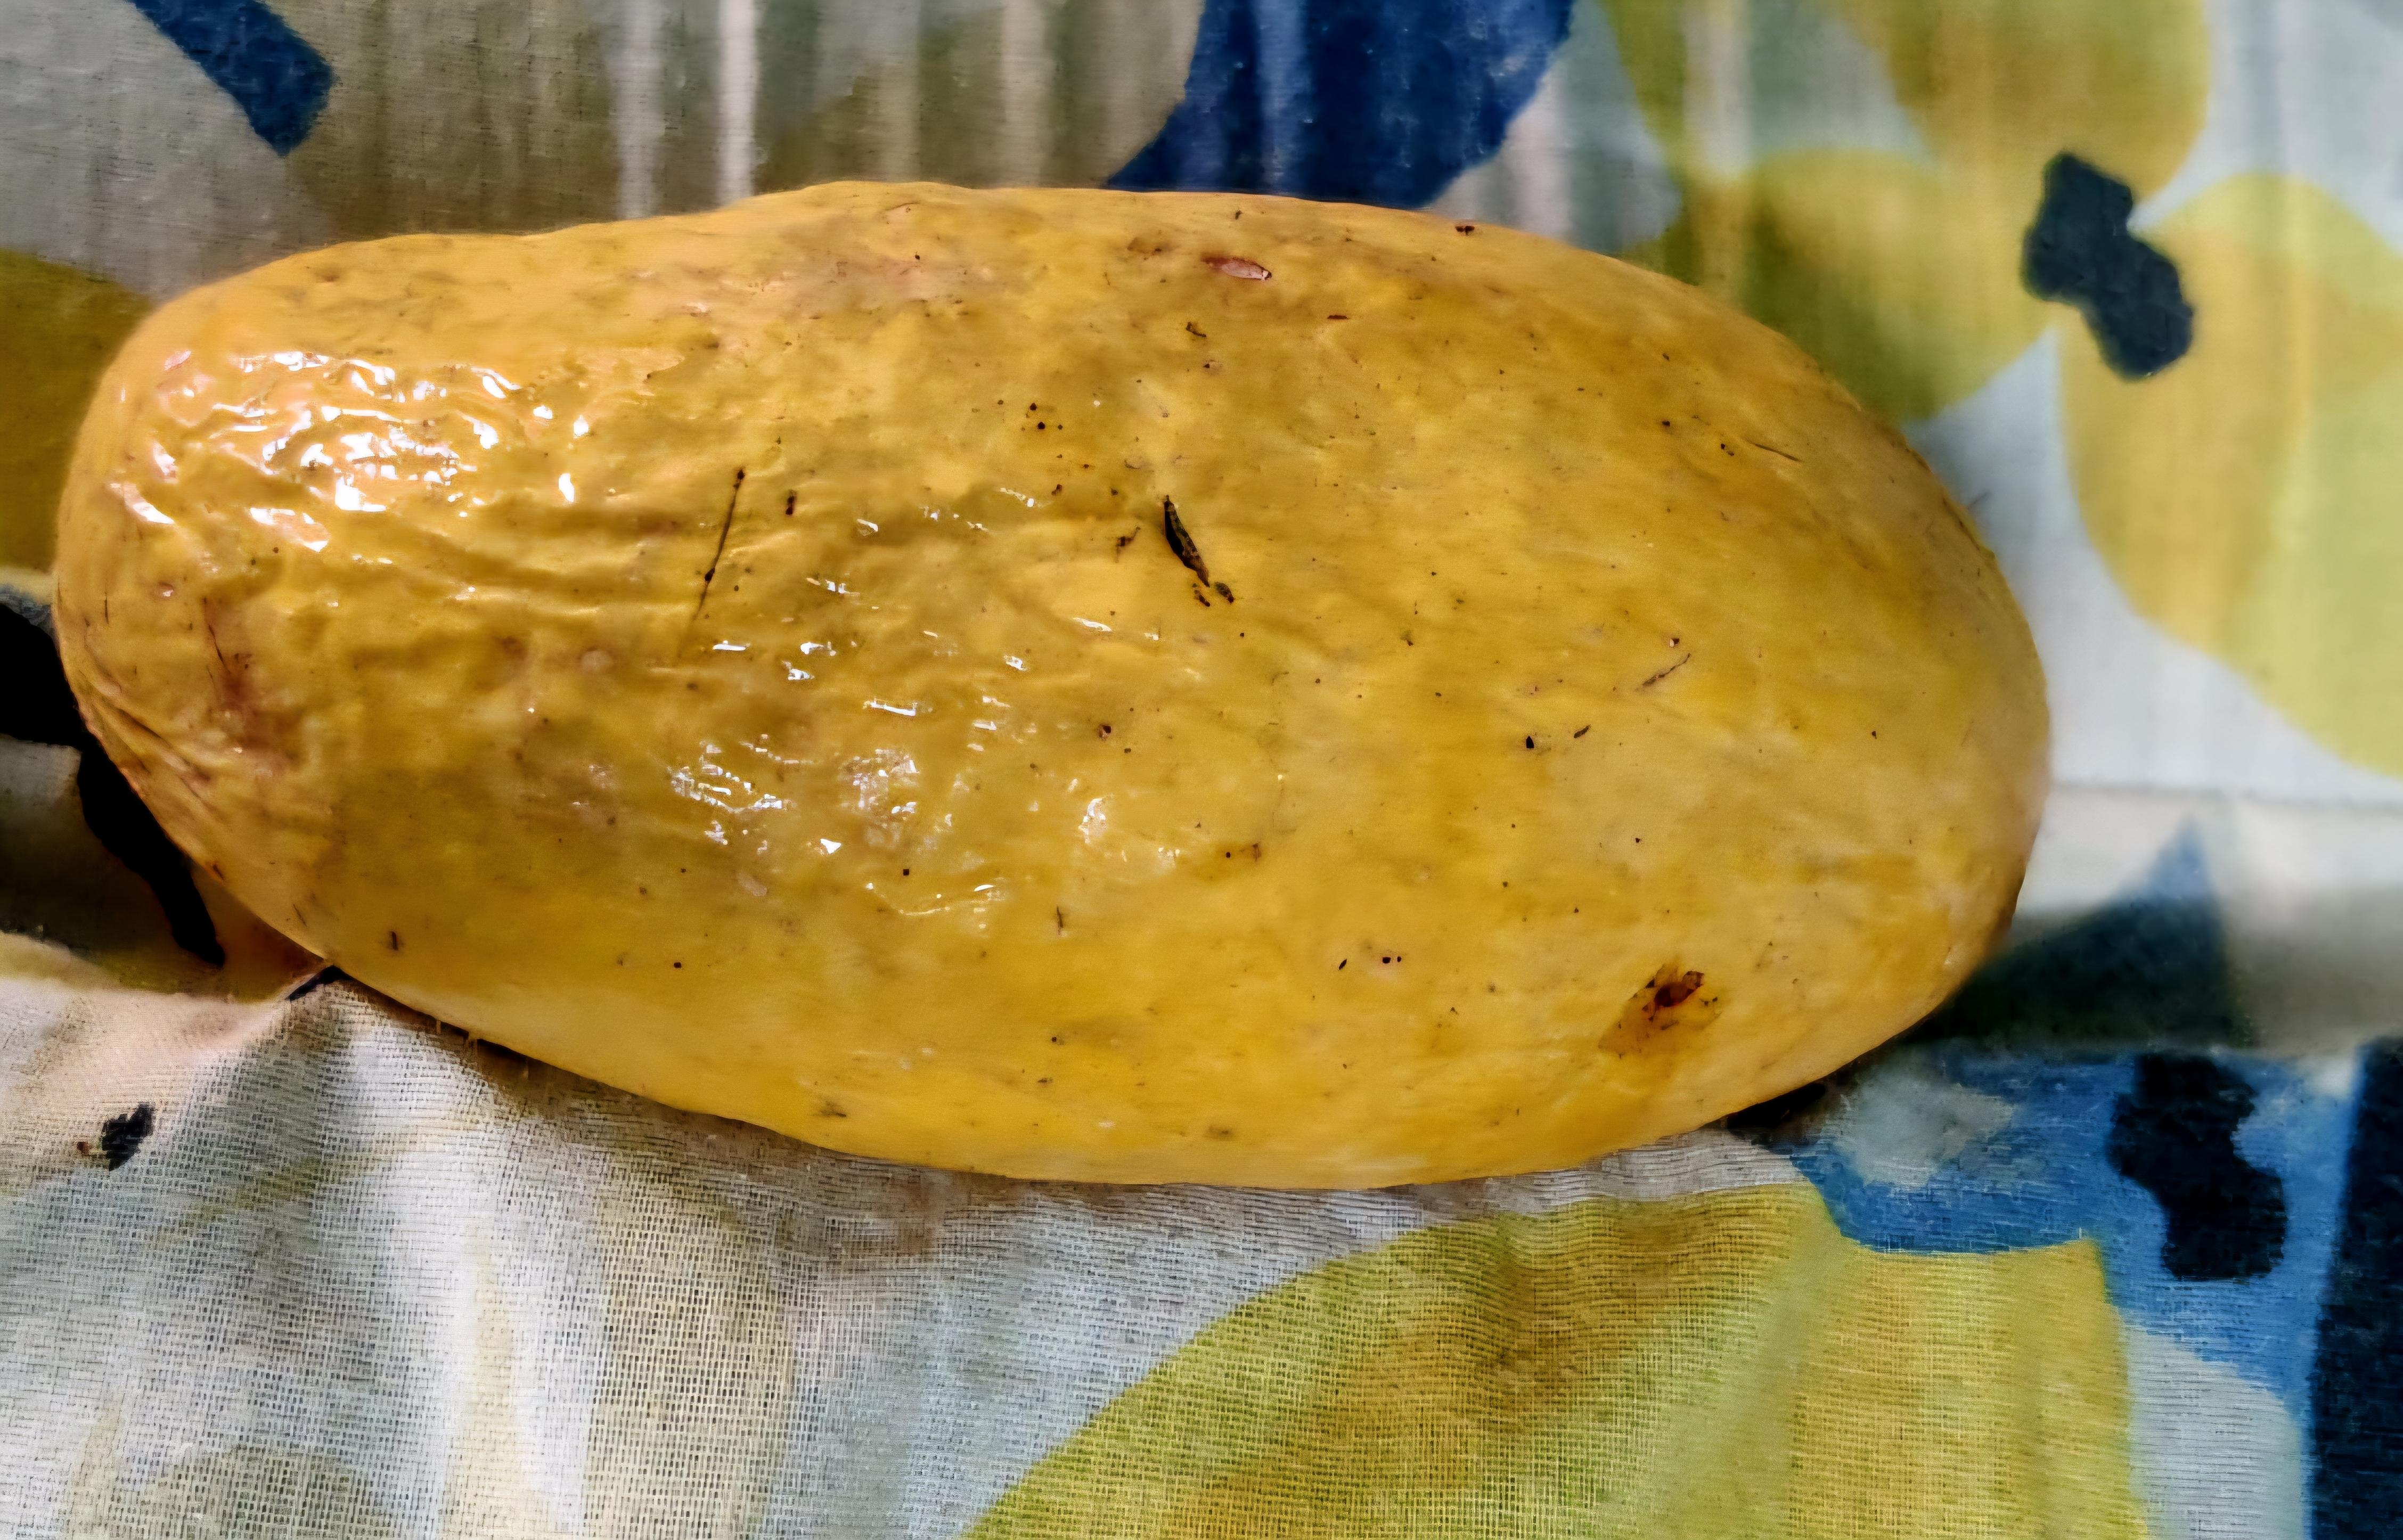mango: (49, 177, 2053, 1191)
